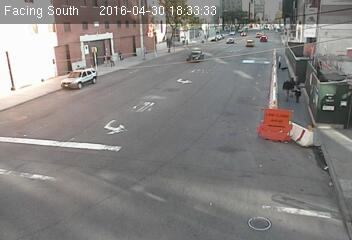neg: (141, 15, 169, 52), (195, 51, 213, 76), (98, 8, 113, 29), (215, 16, 228, 34), (246, 29, 257, 43)
pos: (278, 79, 293, 100), (291, 84, 306, 104), (283, 74, 297, 93), (273, 54, 285, 69)
